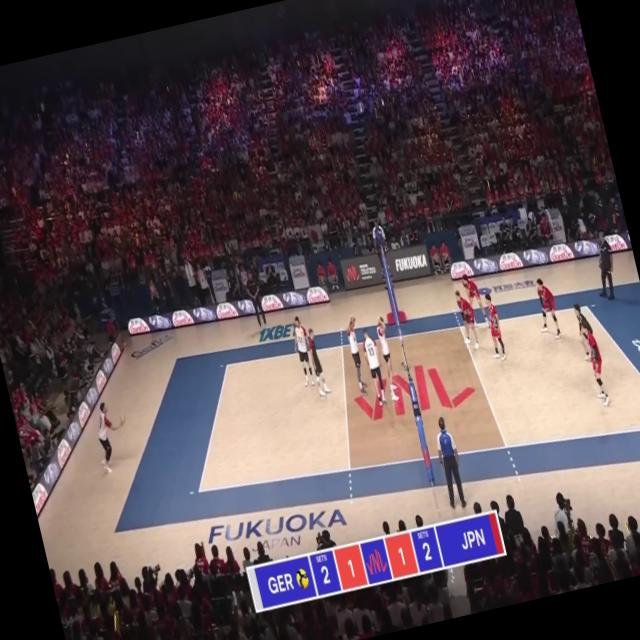referee: (430, 414, 470, 512)
team_one: (89, 395, 136, 474), (373, 314, 403, 402), (359, 327, 391, 408), (342, 315, 372, 396), (286, 314, 318, 388), (303, 326, 331, 396)
team_two: (580, 318, 612, 408), (530, 276, 563, 342), (478, 291, 508, 362), (452, 286, 482, 352), (460, 272, 490, 331), (572, 300, 598, 360)
